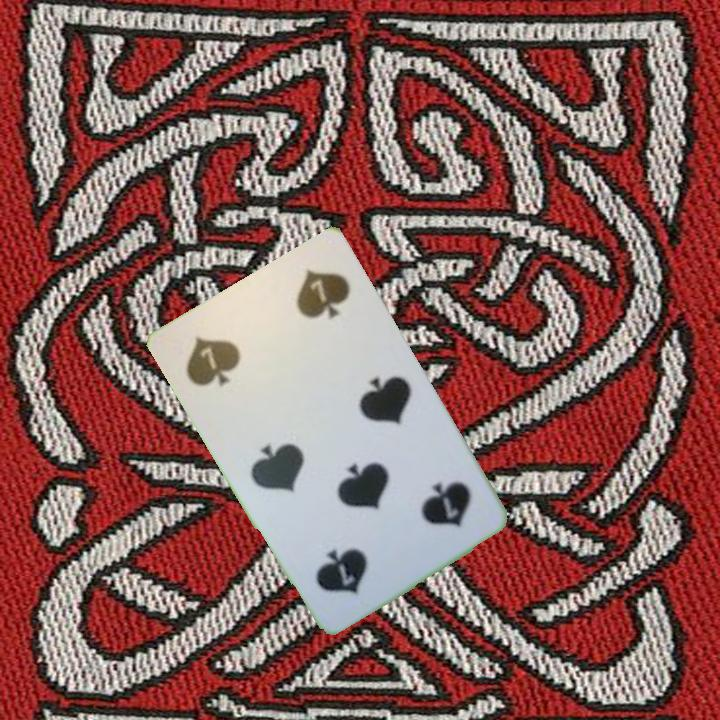s_7.png: (365, 449, 493, 571), (164, 294, 292, 416)
